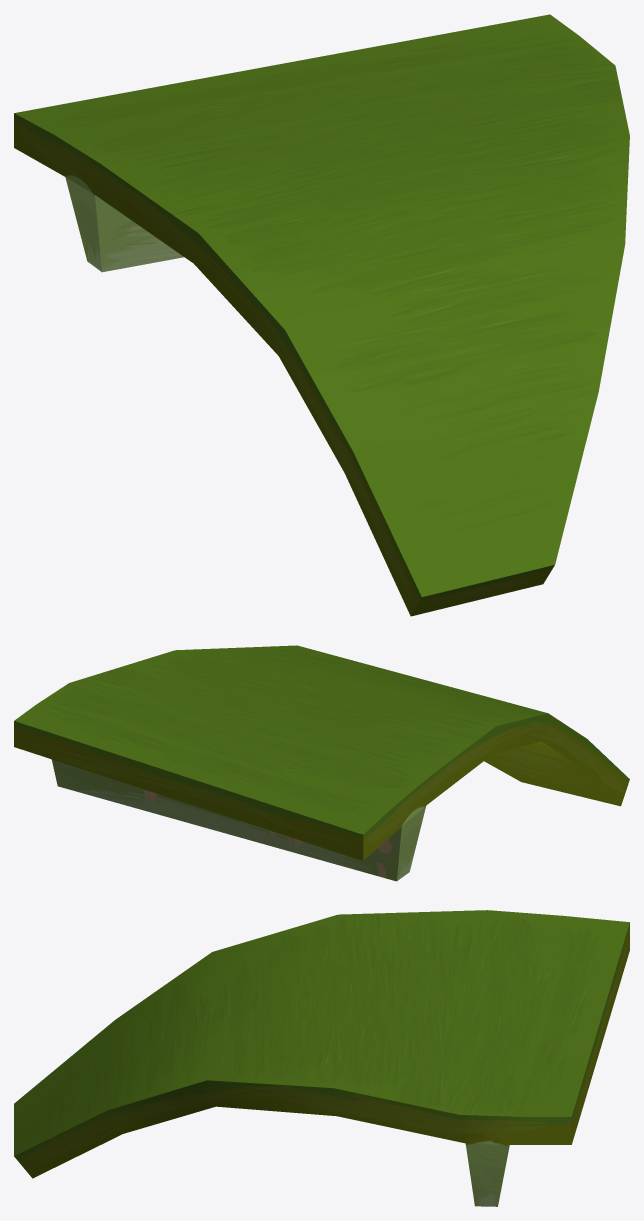
The model's file is GreenPepper.gltf.
3 renders of one model, top to bottom at view 1: azimuth 30°, elevation 25°; view 2: azimuth 150°, elevation 25°; view 3: azimuth 270°, elevation 25°, orthographic. The views are drawn at different scales.
Parts seen in each view (by area): view 1: greenpepper; view 2: greenpepper; view 3: greenpepper.
Part boxes in pixels (x1,y1,x2,y2): greenpepper: (14, 14, 629, 616); greenpepper: (14, 645, 629, 881); greenpepper: (14, 910, 629, 1206).
Bounding box in the file's own units: 0.0817 × 0.0395 × 0.1076.
Materials: 1 (1 with a texture image).
